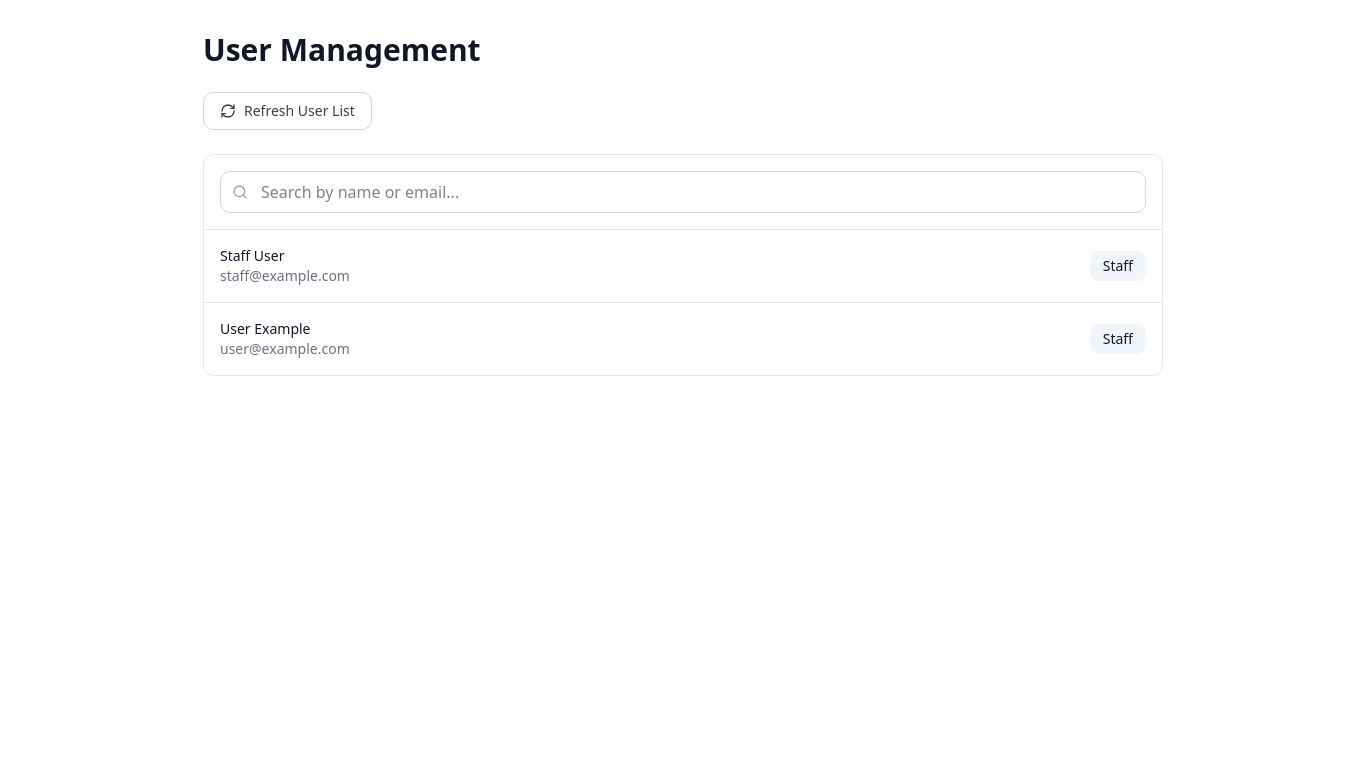
Test: User Management - Scrum-318 › Scrum-318.2 - HR can assign Manager, Staff, or HR role to users › should verify Manager, Staff, and HR roles are available options
The width and height of the screenshot is (1366, 768).
Open role change modal
Click the heading "Staff User": (252, 256) [220,246,284,265]
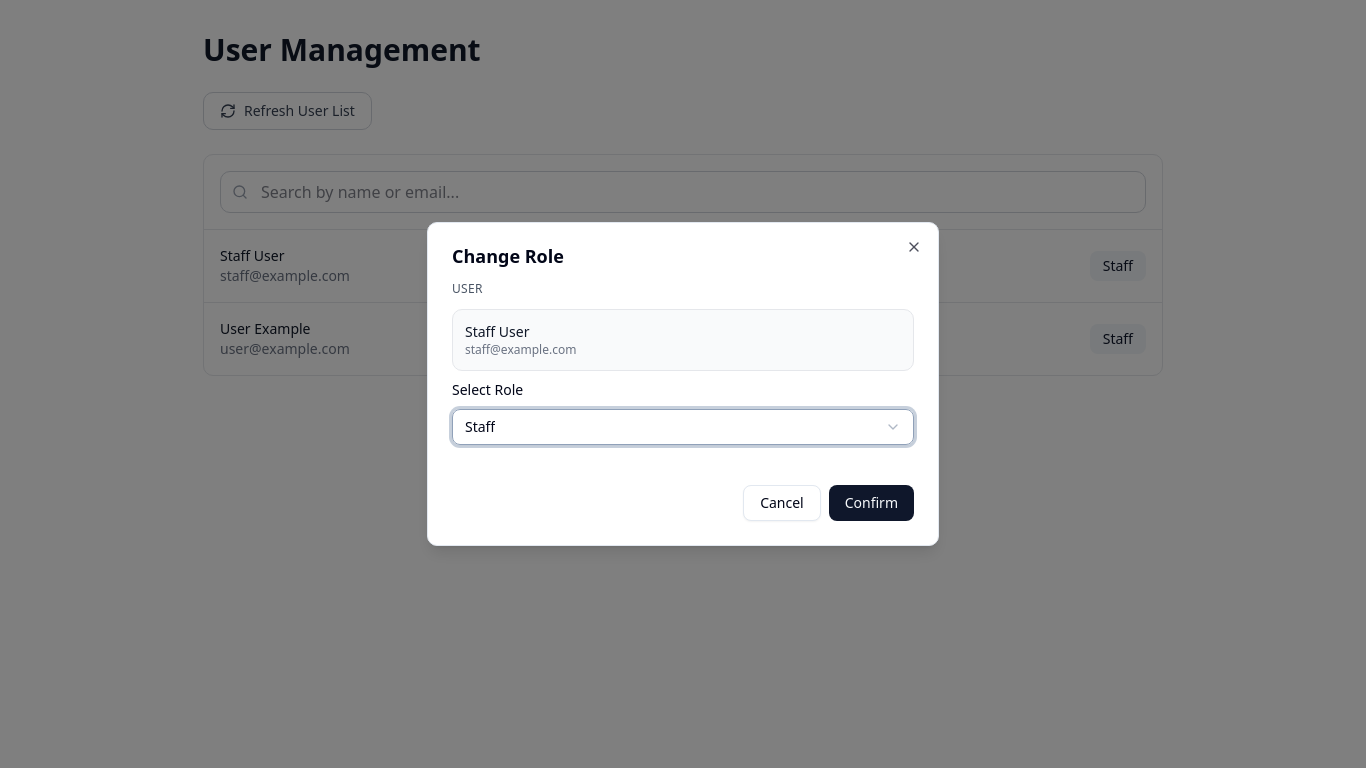
Expected: the dropdown is shown, [452,409,914,445]
Expected: the text "Select Role" is shown, [452,380,523,399]
